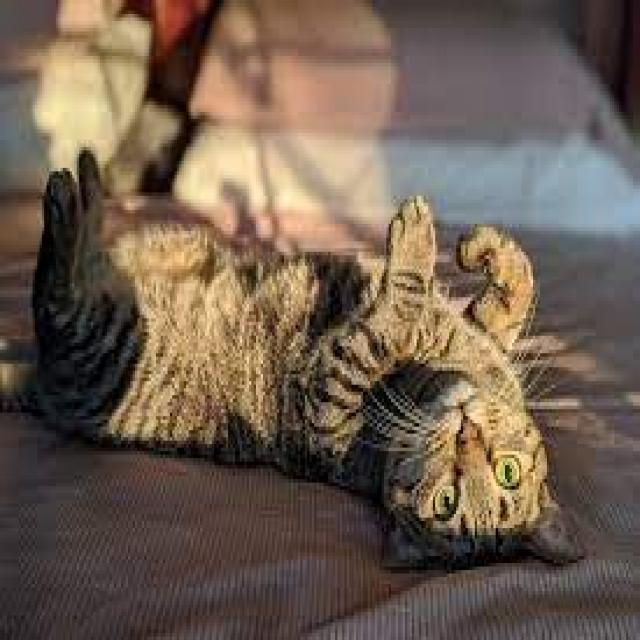cat: (0, 135, 588, 581)
